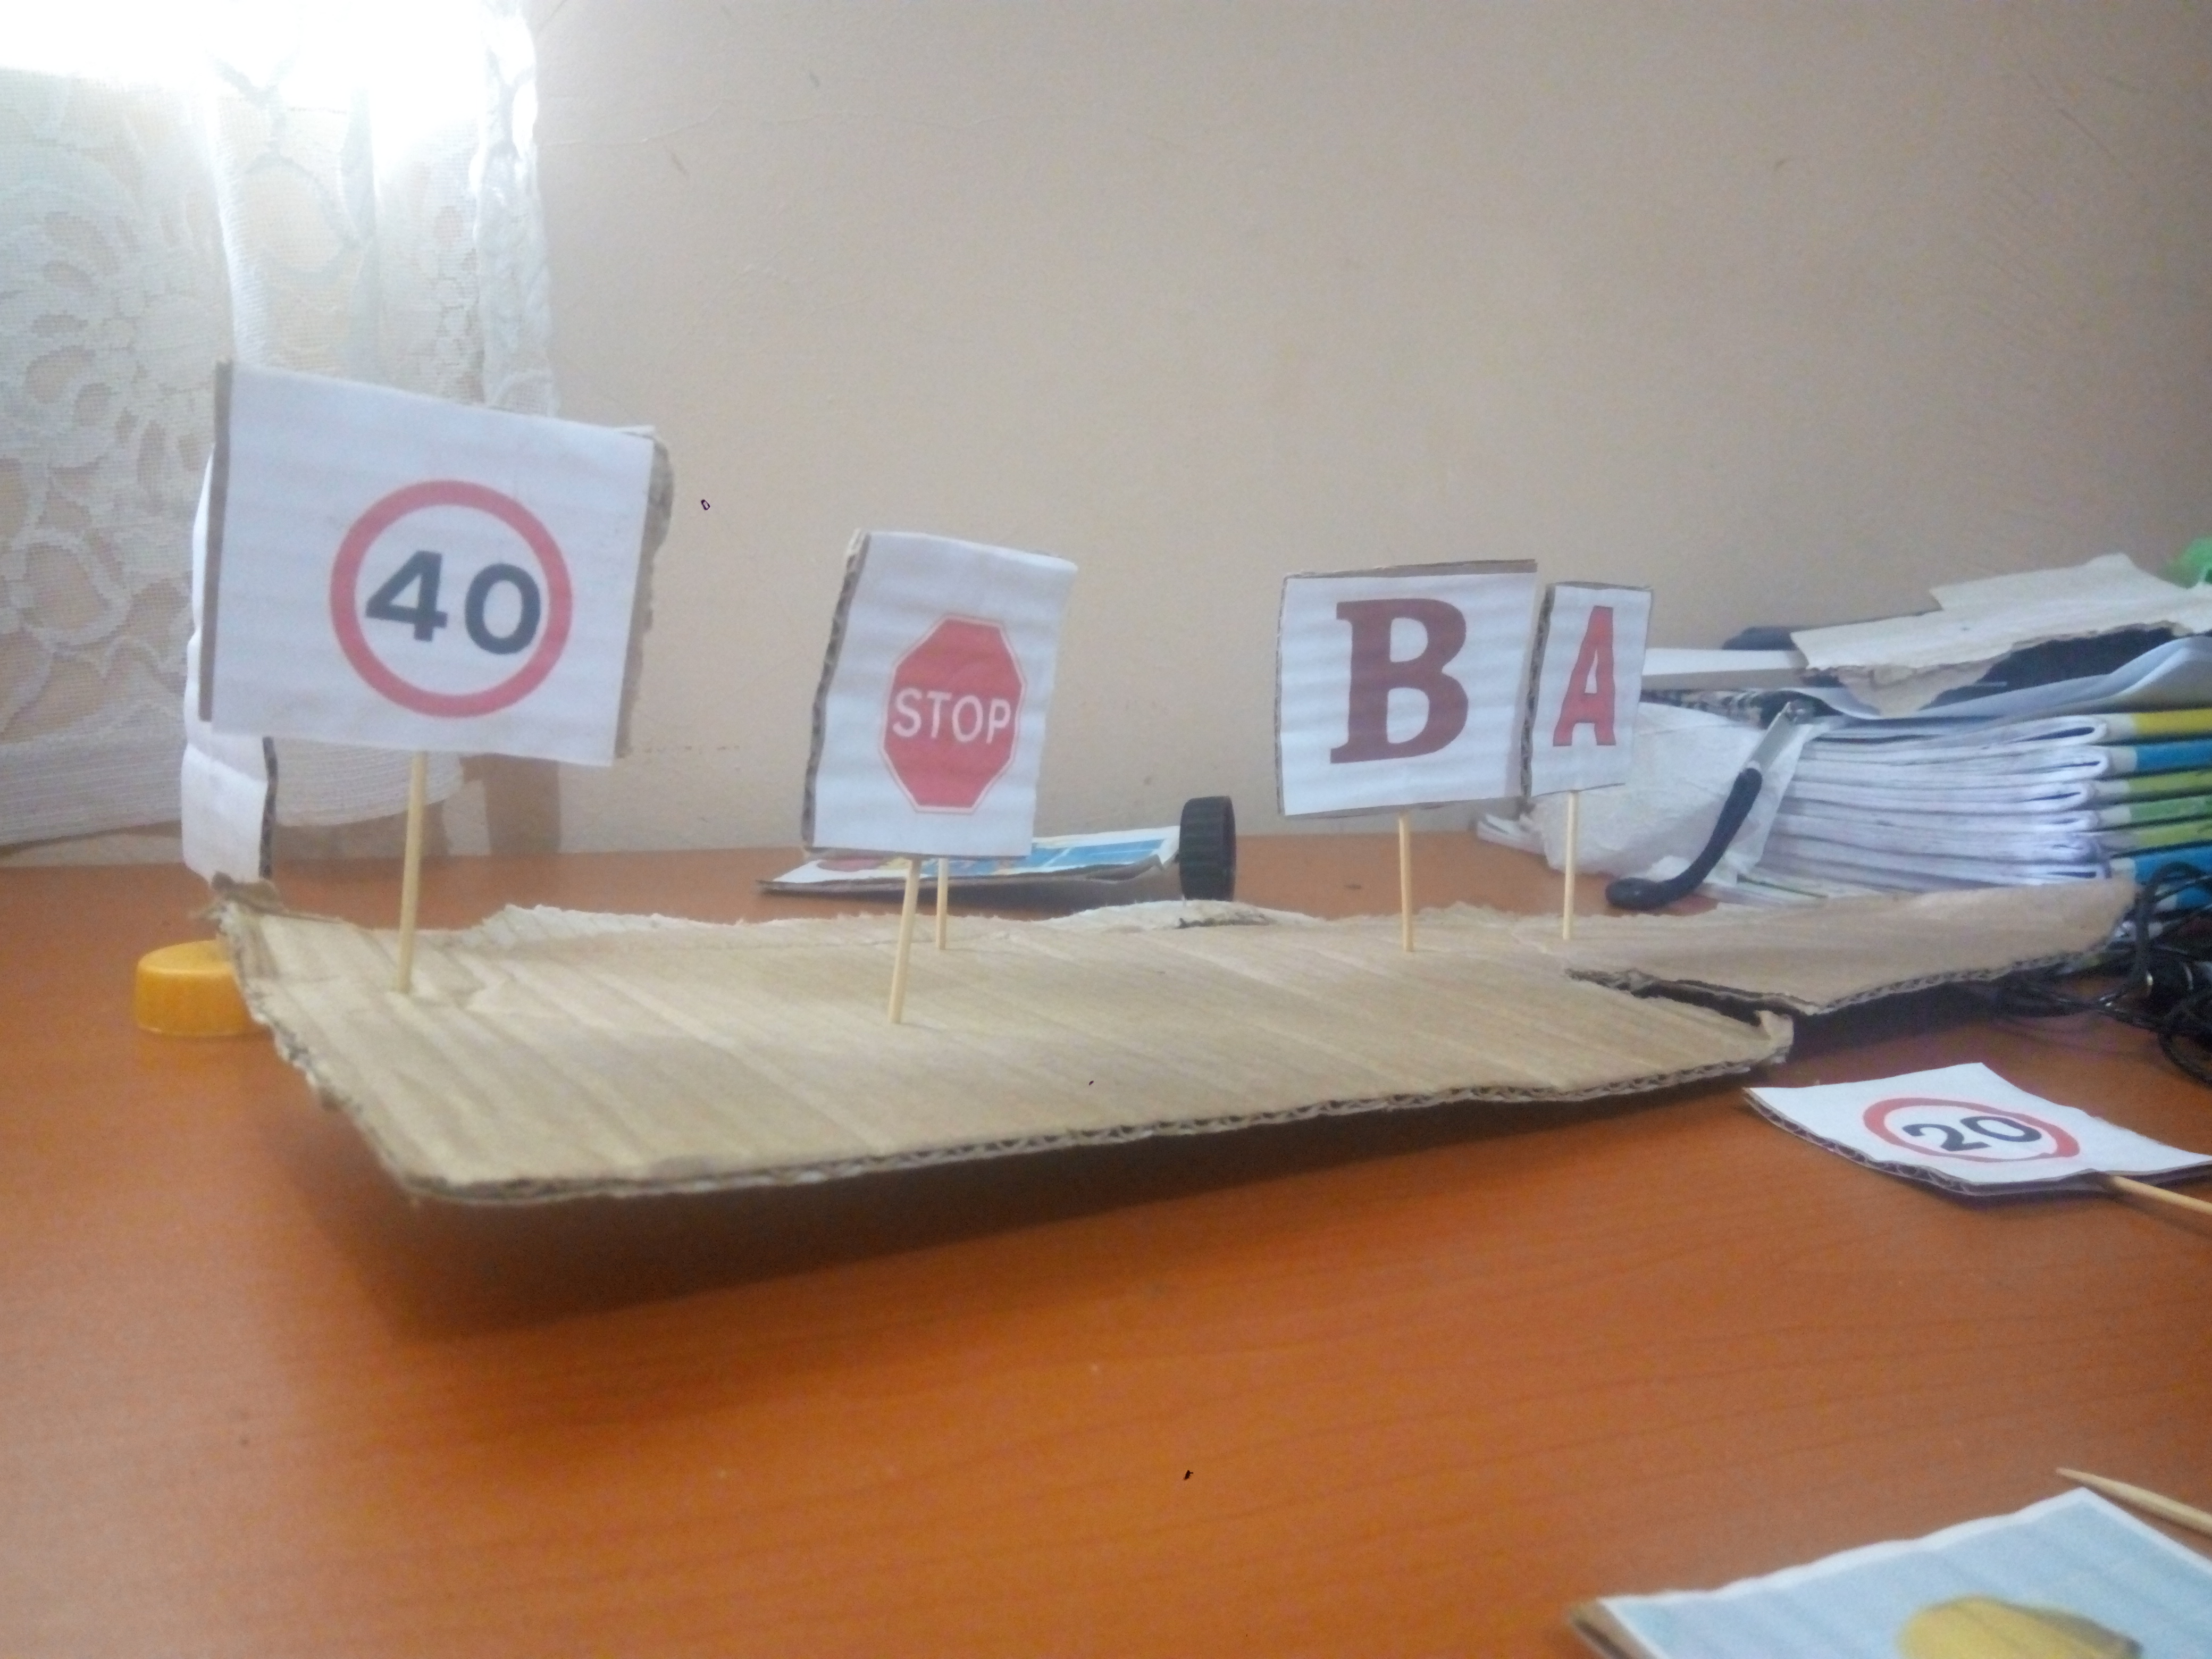20 kph: (1853, 1075, 2094, 1190)
40 kph: (315, 462, 599, 735)
stop: (878, 582, 1033, 831)
zone A: (1552, 591, 1635, 781)
zone B: (1318, 584, 1493, 786)
